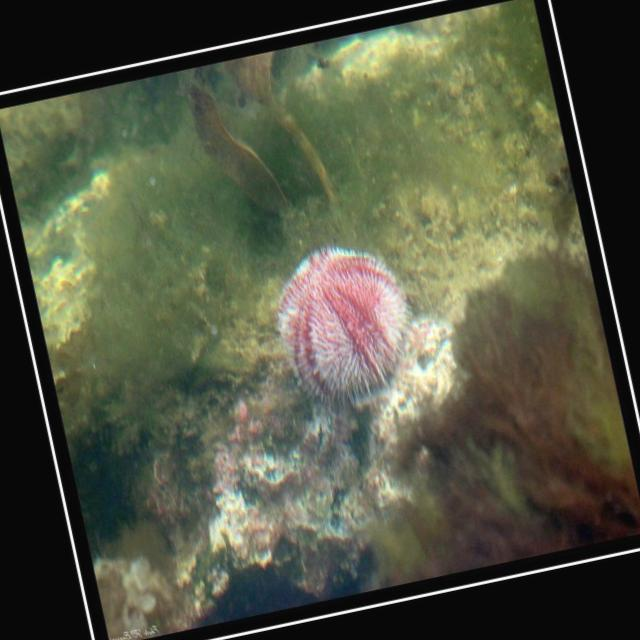Deniz Kestanesi: (262, 229, 426, 416)
